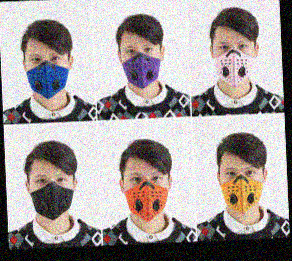with_mask: (125, 169, 169, 221), (28, 170, 73, 219), (25, 50, 68, 99), (213, 38, 256, 86), (220, 165, 263, 211), (123, 42, 161, 89)
